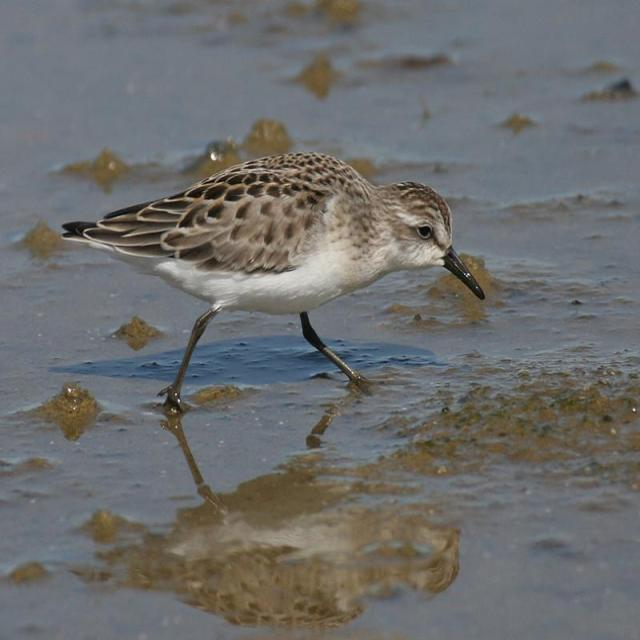bird: (52, 145, 497, 421)
